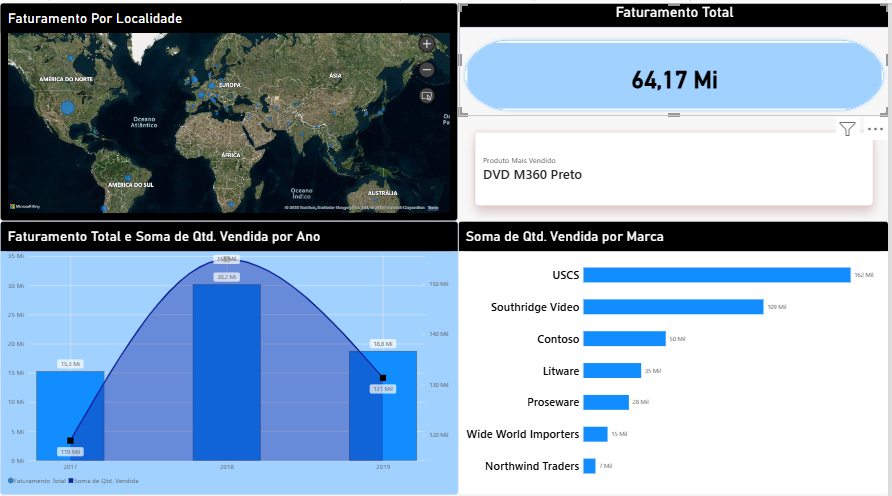

Layout of this report page (visuals, bound fields, positions):
{"tool":"powerbi","page":{"name":"Página 1","canvas":[1920,1080],"ordinal":0},"visuals":[{"type":"clusteredBarChart","fields":{"Category":["Planilha1.Marca"],"Y":["Sum(Planilha1.Qtd. Vendida)"]},"box":[990.2,471.2,929.8,592.1],"z":1000},{"type":"lineClusteredColumnComboChart","fields":{"Category":["Planilha1.Data da Venda.Variation.Hierarquia de datas.Ano","Planilha1.Data da Venda.Variation.Hierarquia de datas.Trimestre","Planilha1.Data da Venda.Variation.Hierarquia de datas.Mês","Planilha1.Data da Venda.Variation.Hierarquia de datas.Dia"],"Y":["Planilha1.Faturamento Total"],"Y2":["Sum(Planilha1.Qtd. Vendida)"]},"box":[0,471.2,990.2,592.1],"z":2000},{"type":"map","title":"Faturamento Por Localidade","fields":{"Category":["Planilha1.Localidade"],"Size":["Planilha1.Faturamento Total"]},"box":[0,0,989.3,470.9],"z":3000},{"type":"cardVisual","fields":{"Data":["Planilha1.Produto Mais Vendido"]},"box":[991,243,929,228],"z":4000},{"type":"cardVisual","title":"Faturamento Total","fields":{"Data":["Planilha1.Faturamento Total"]},"box":[991,0,929,243],"z":4001}]}

Visuals, with their boxes in screenshot pixels (x1, y1, x2, y2), scaled from the page's 1920x1080 canvas onto the 892x496 screenshot:
clusteredBarChart - Planilha1.Marca x Sum(Planilha1.Qtd. Vendida): x1=460 y1=216 x2=891 y2=488
lineClusteredColumnComboChart - Planilha1.Data da Venda.Variation.Hierarquia de datas.Ano x Planilha1.Data da Venda.Variation.Hierarquia de datas.Trimestre: x1=0 y1=216 x2=460 y2=488
"Faturamento Por Localidade" map: x1=0 y1=0 x2=460 y2=216
cardVisual - Planilha1.Produto Mais Vendido: x1=460 y1=112 x2=891 y2=216
"Faturamento Total" cardVisual: x1=460 y1=0 x2=891 y2=112
